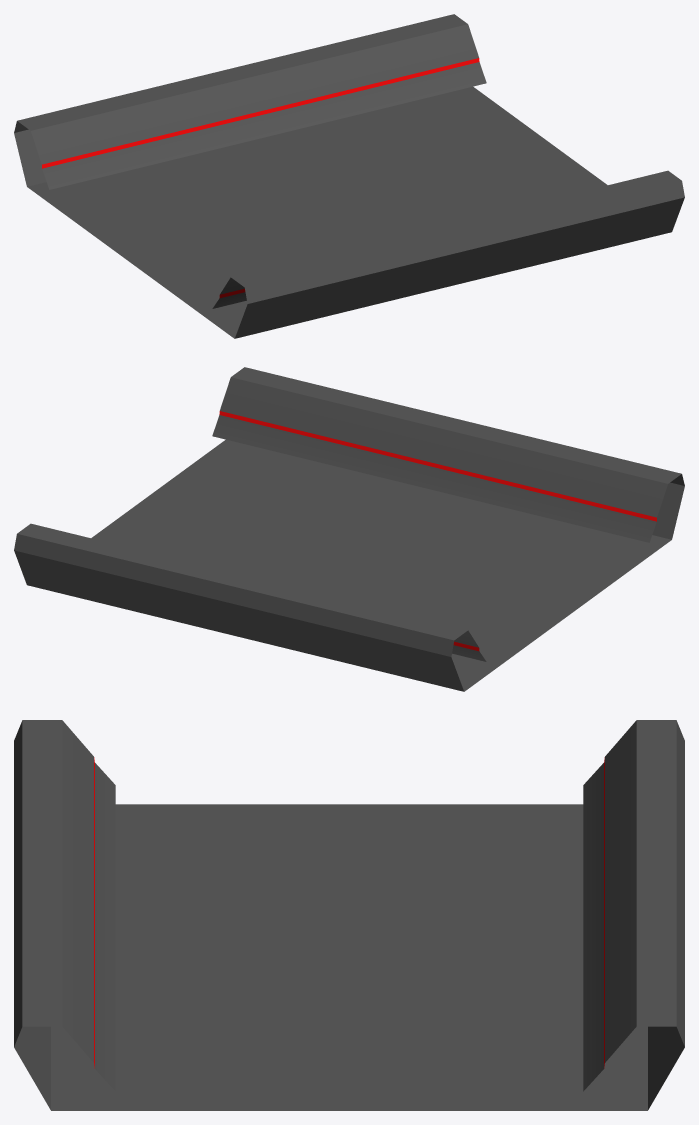
The model's file is genTrackWall.fbx.
3 views of the same model, one above another, from view 1: azimuth 30°, elevation 25°; view 2: azimuth 150°, elevation 25°; view 3: azimuth 270°, elevation 25° (orthographic). The views are drawn at different scales.
Visible parts, largest first — view 1: genTrackWall; view 2: genTrackWall; view 3: genTrackWall.
Boxes of the visible parts, bbox=[...] form: genTrackWall: bbox=[14, 14, 684, 338]; genTrackWall: bbox=[14, 367, 684, 691]; genTrackWall: bbox=[14, 720, 684, 1110].
Size of the model in its own units: 0.1876 by 0.0241 by 0.1735.
